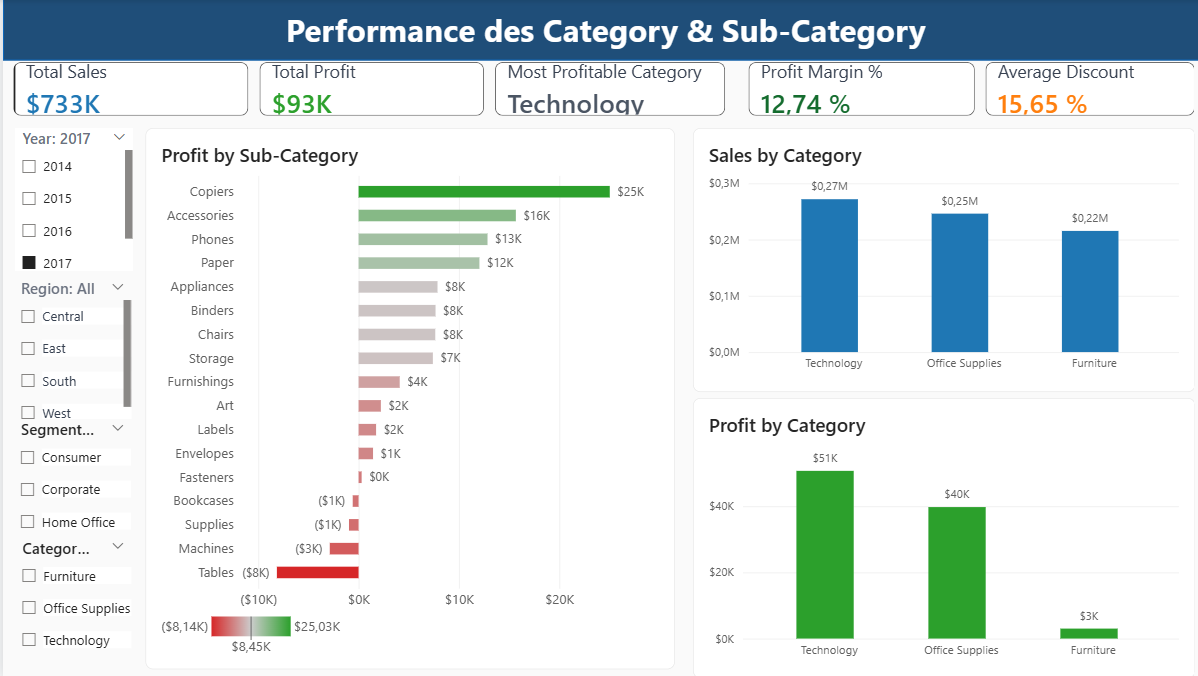

What the dashboard file says about the page in this screenshot:
{"tool":"powerbi","page":{"name":"Category-Sub-Category","canvas":[1280,720],"ordinal":2},"visuals":[{"type":"shape","box":[0,0,1278.9,65.2],"z":0},{"type":"cardVisual","fields":{"Data":["Mes mesures.Total Sales"]},"box":[11.5,67.3,249.2,57.3],"z":1000},{"type":"cardVisual","fields":{"Data":["Mes mesures.Total Profit"]},"box":[272.3,66.9,238.9,57.8],"z":2000},{"type":"cardVisual","fields":{"Data":["Mes mesures.Most Profitable Category"]},"box":[521.7,66.8,245,57.3],"z":3000},{"type":"cardVisual","fields":{"Data":["Mes mesures.Profit Margin %"]},"box":[790.7,67.3,240.6,57.3],"z":4000},{"type":"cardVisual","fields":{"Data":["Mes mesures.Average Discount"]},"box":[1041.3,67.3,222,57.3],"z":5000},{"type":"slicer","fields":{"Values":["Calendar.Year"]},"box":[12.9,137.5,124.6,150.4],"z":6000},{"type":"slicer","fields":{"Values":["Sample - Superstore.Region"]},"box":[11.5,296.5,124.6,149],"z":7000},{"type":"slicer","fields":{"Values":["Sample - Superstore.Segment"]},"box":[11.5,445.5,124.6,149],"z":8000},{"type":"columnChart","title":"Sales by Category","fields":{"Category":["Sample - Superstore.Category"],"Y":["Mes mesures.Total Sales"]},"box":[731.7,136.8,532.9,279.9],"z":9000},{"type":"columnChart","title":"Profit by Category","fields":{"Category":["Sample - Superstore.Category"],"Y":["Mes mesures.Total Profit"]},"box":[731.7,423.1,532.9,297.4],"z":10000},{"type":"barChart","title":"Profit by Sub-Category","fields":{"Y":["Mes mesures.Total Profit"],"Category":["Sample - Superstore.Sub-Category"]},"box":[151.1,136.8,561.5,574.2],"z":11000},{"type":"slicer","fields":{"Values":["Sample - Superstore.Category"]},"box":[12.2,570.5,123.2,140],"z":13000}]}

Visuals, with their boxes in screenshot pixels (x1, y1, x2, y2), scaled from the page's 1280x720 canvas onto the 1198x676 screenshot:
shape: (0,0,1197,61)
cardVisual - Mes mesures.Total Sales: (11,63,244,117)
cardVisual - Mes mesures.Total Profit: (255,63,478,117)
cardVisual - Mes mesures.Most Profitable Category: (488,63,718,117)
cardVisual - Mes mesures.Profit Margin %: (740,63,965,117)
cardVisual - Mes mesures.Average Discount: (975,63,1182,117)
slicer - Calendar.Year: (12,129,129,270)
slicer - Sample - Superstore.Region: (11,278,127,418)
slicer - Sample - Superstore.Segment: (11,418,127,558)
"Sales by Category" columnChart: (685,128,1184,391)
"Profit by Category" columnChart: (685,397,1184,675)
"Profit by Sub-Category" barChart: (141,128,667,668)
slicer - Sample - Superstore.Category: (11,536,127,667)
